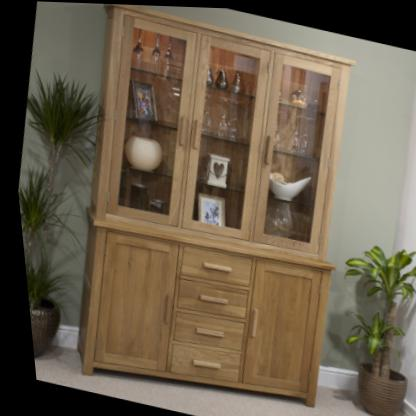Cupboard: (45, 1, 373, 402)
